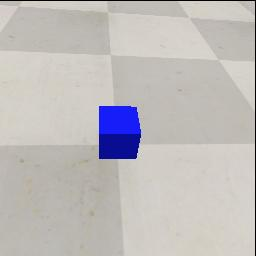box: (99, 106, 141, 159)
